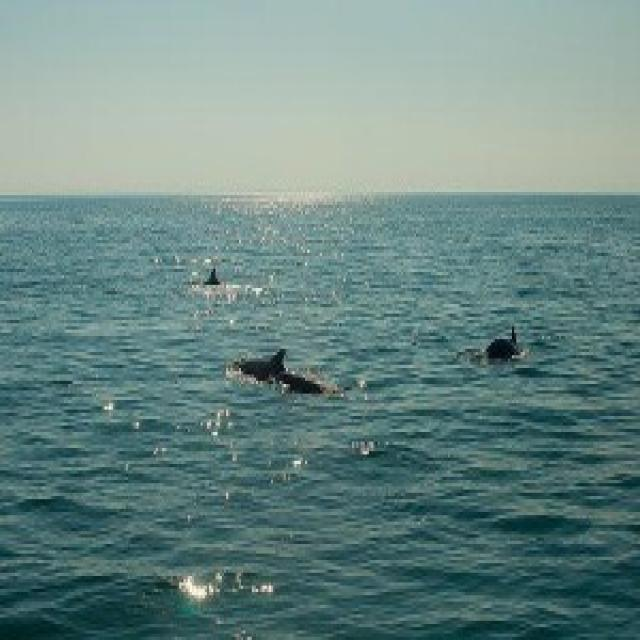Dolphin: (221, 340, 338, 403), (475, 322, 537, 375)
